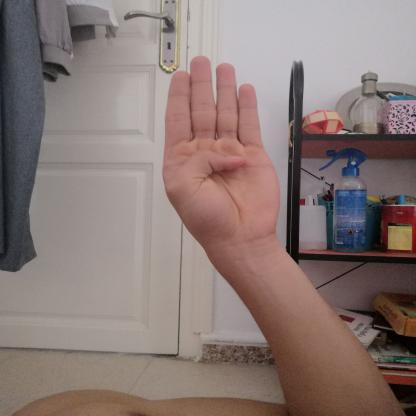KAAF: (147, 45, 301, 258)
